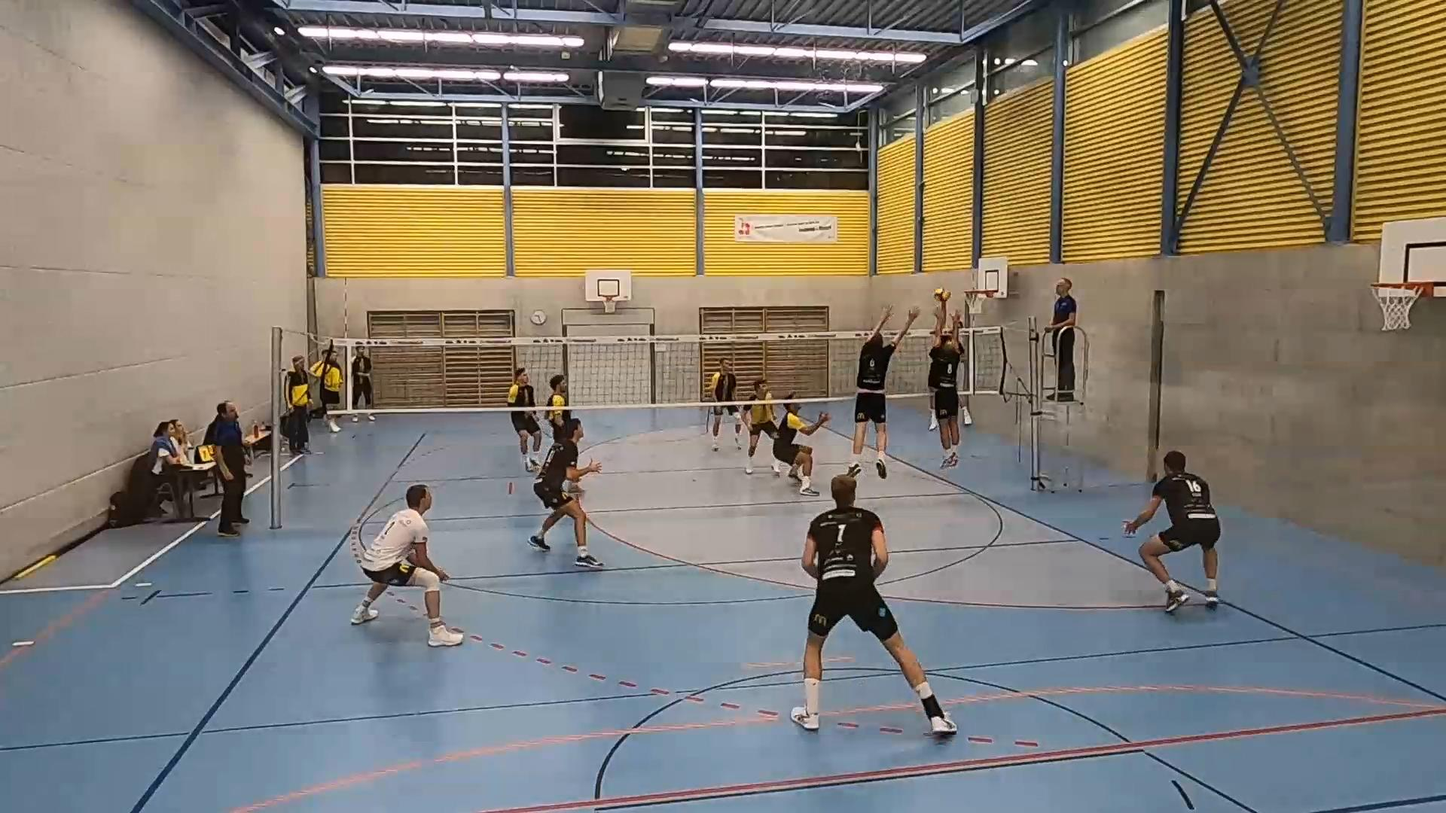Attack: (921, 289, 984, 435)
Block: (849, 307, 914, 471), (926, 305, 976, 475)
Player: (792, 475, 956, 735), (350, 484, 463, 646), (1124, 451, 1220, 612), (529, 418, 602, 568), (773, 393, 829, 495), (507, 367, 541, 472), (743, 379, 777, 474), (709, 358, 742, 451), (546, 375, 571, 436)
